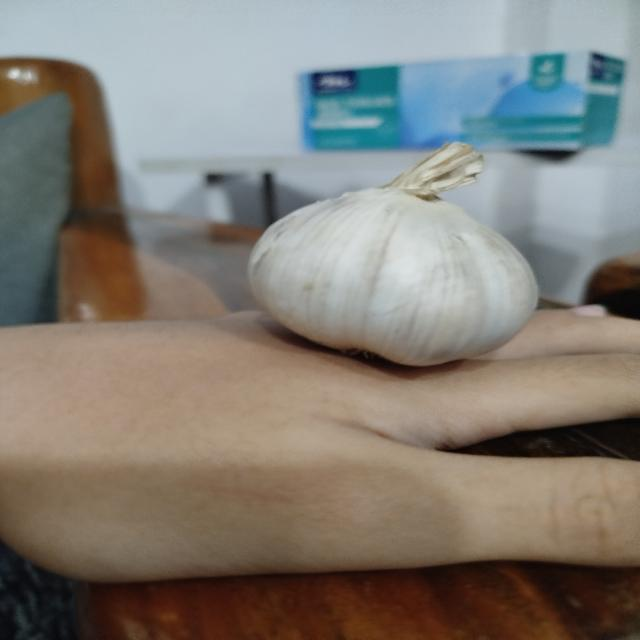garlic: (246, 140, 540, 367)
